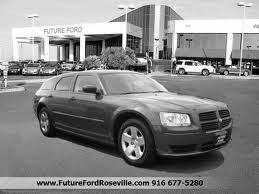car: (33, 70, 234, 164)
